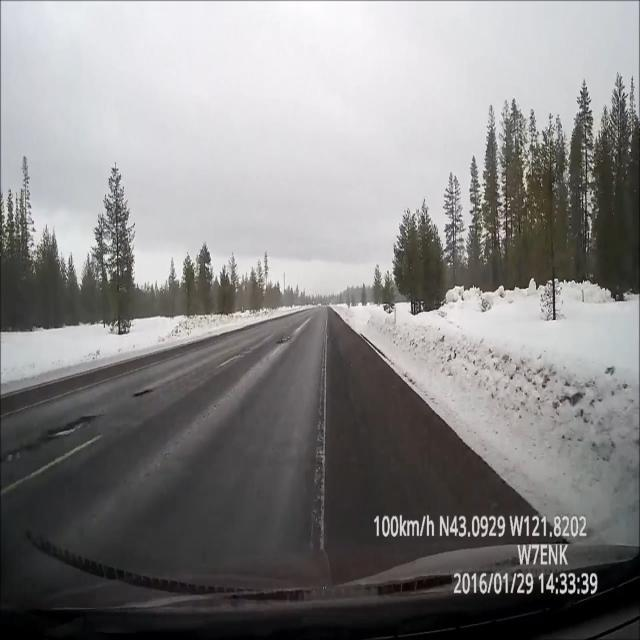Buraco: (40, 414, 100, 442), (0, 442, 39, 466), (129, 386, 156, 400), (273, 333, 295, 346)
